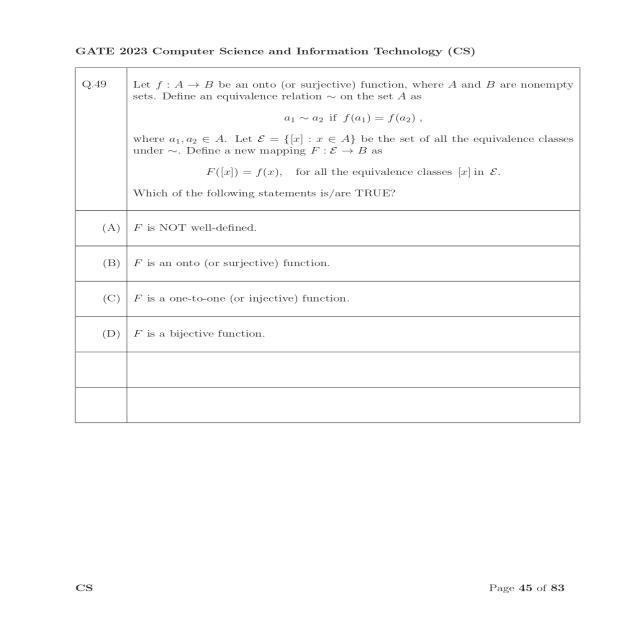Answer_Block: (75, 214, 580, 354)
Question_Answer_Block: (75, 70, 580, 354)
Question_Block: (75, 70, 580, 212)
Question_Paper_Area: (75, 70, 580, 422)
